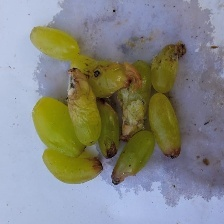grapes: (41, 10, 182, 189)
